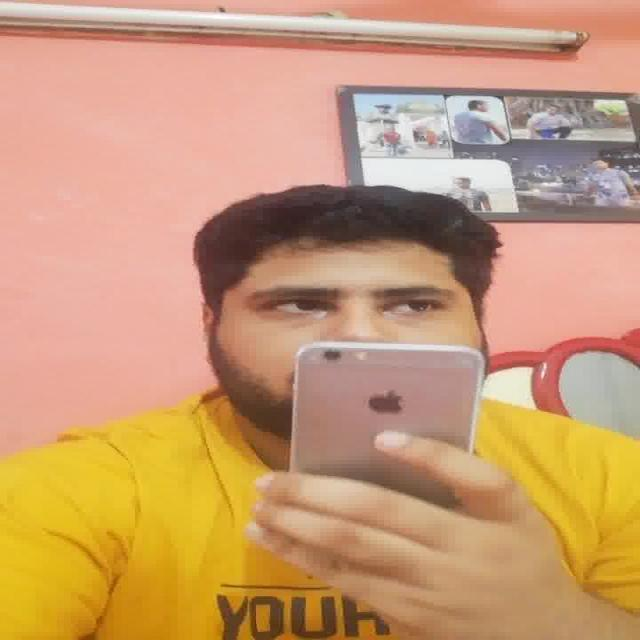phone: (290, 343, 488, 483)
